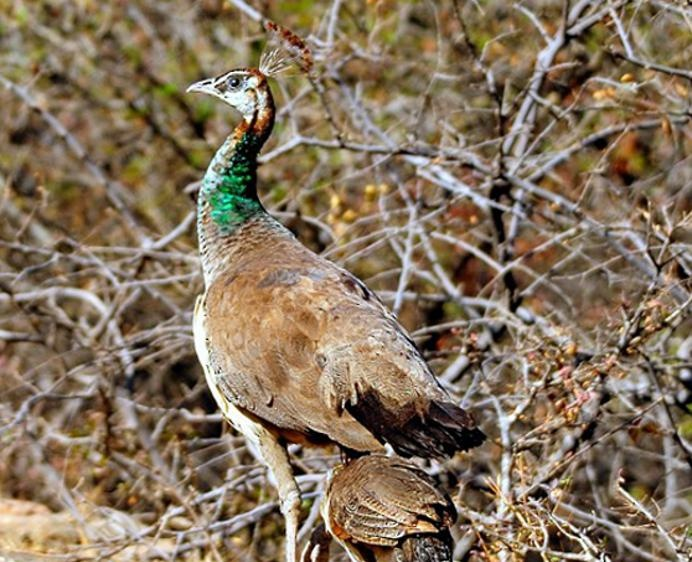peacock: (185, 25, 450, 535)
